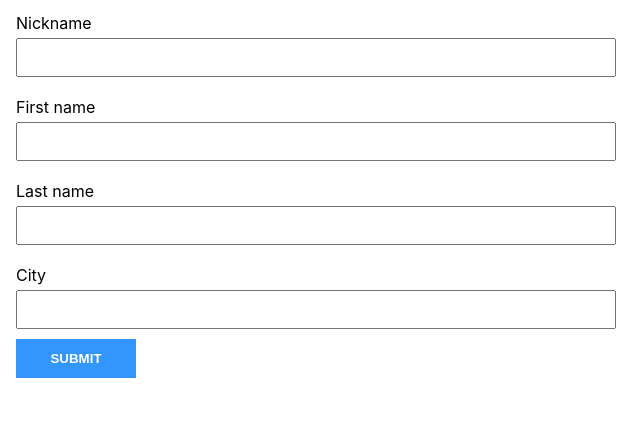
Test: renders validation for first name
Click the button "Submit".
click(76, 358)  # box [16,339,136,378]
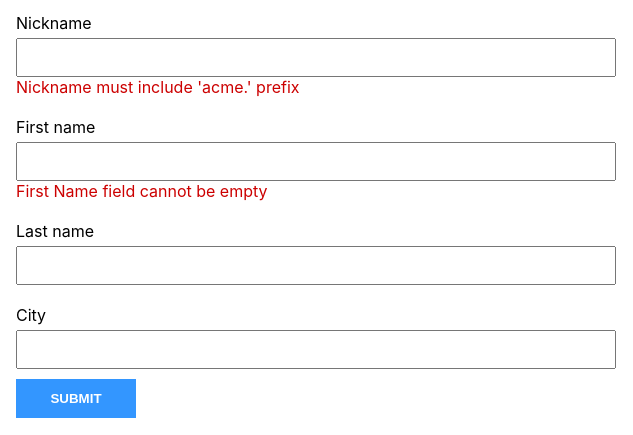
Expected: the text "First Name must have more than 3 characters" is not shown
Expected: the text "First Name field cannot be empty" is shown, [16,181,268,201]
Type "Jo" into the field labelled "First name First Name field cannot be empty".
click(316, 162); type("Jo")  # box [16,142,616,181]
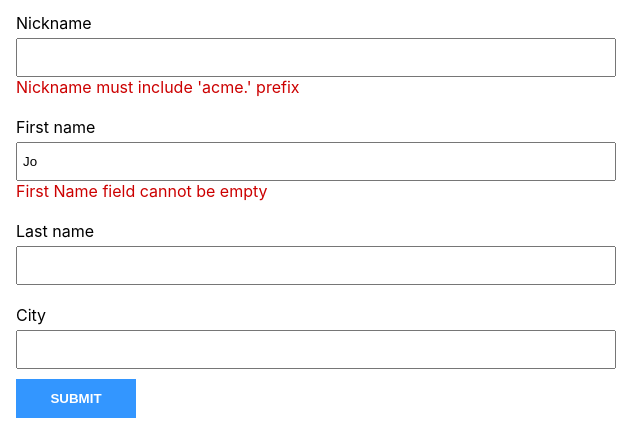
Click the button "Submit".
click(76, 398)  # box [16,379,136,418]
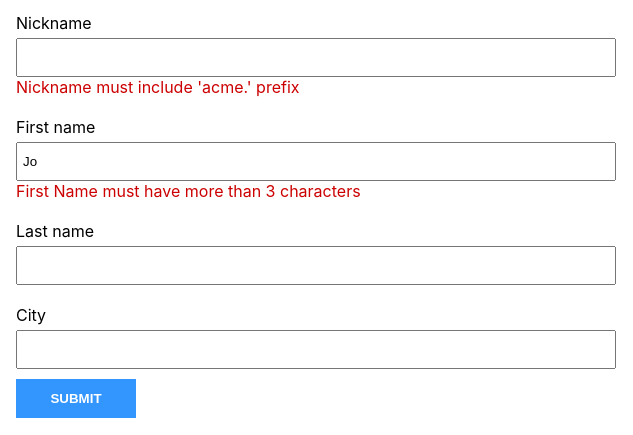
Expected: the text "First Name can't have more than 10 characters" is not shown
Expected: the text "First Name field cannot be empty" is gone
Expected: the text "First Name must have more than 3 characters" is shown, [16,181,361,201]
Replace the text in the field labelled "First name First Name must have more than 3 characters" with "Jonathan Louis" at (316, 162), box [16,142,616,181]
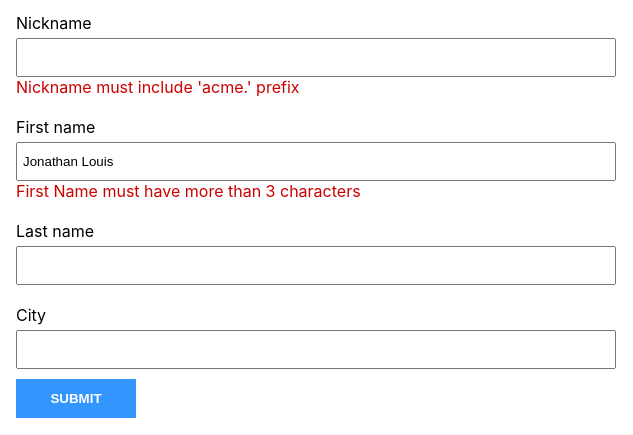
Click the button "Submit".
click(76, 398)  # box [16,379,136,418]
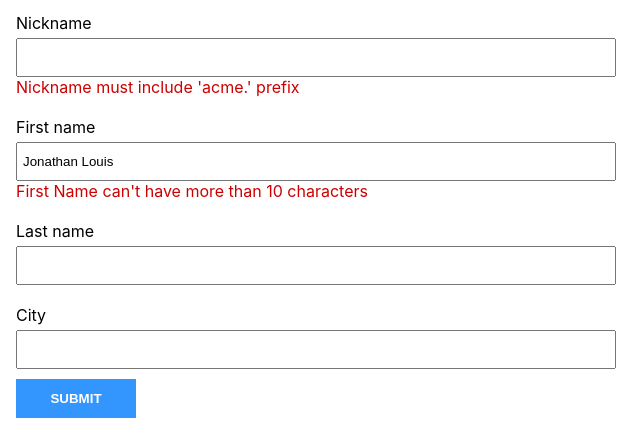
Expected: the text "First Name field cannot be empty" is not shown
Expected: the text "First Name must have more than 3 characters" is gone
Expected: the text "First Name can't have more than 10 characters" is shown, [16,181,368,201]
